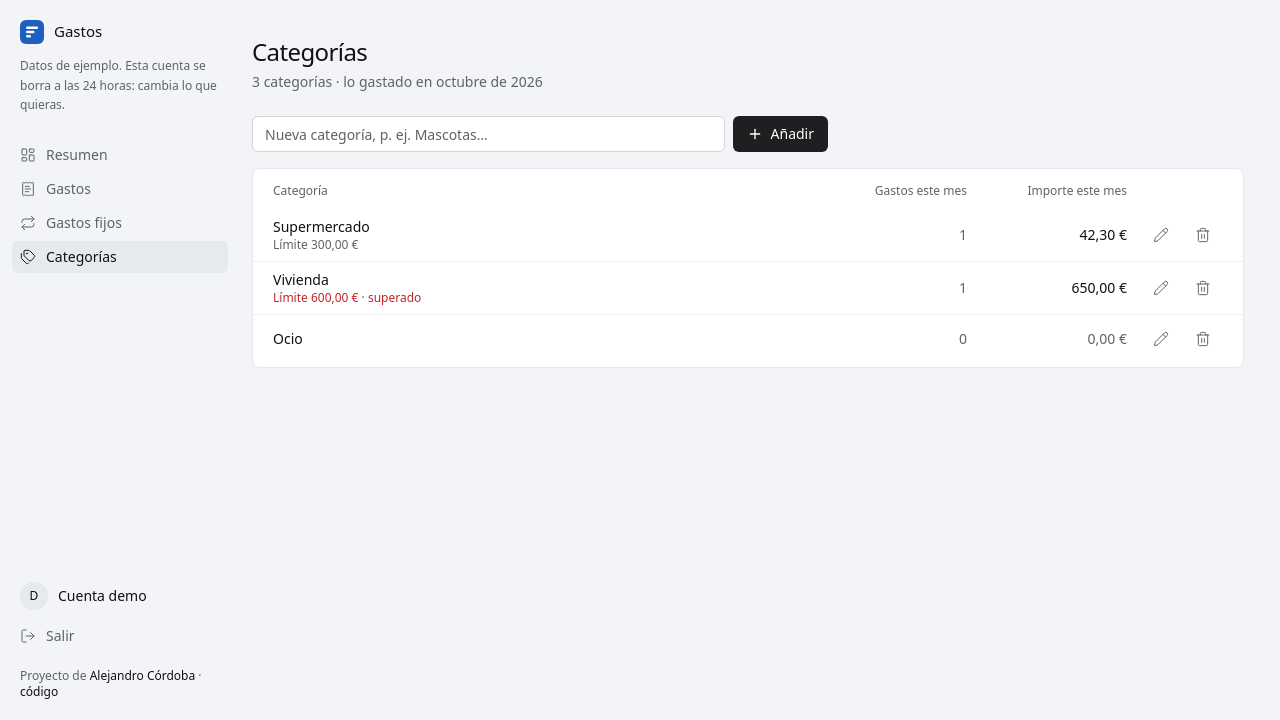
Test: categories page › shows the API message for a duplicated name
The width and height of the screenshot is (1280, 720).
Type "Vivienda" into the field named "Nombre de la nueva categoría". click: (488, 134)
box: left=252, top=116, right=724, bottom=152
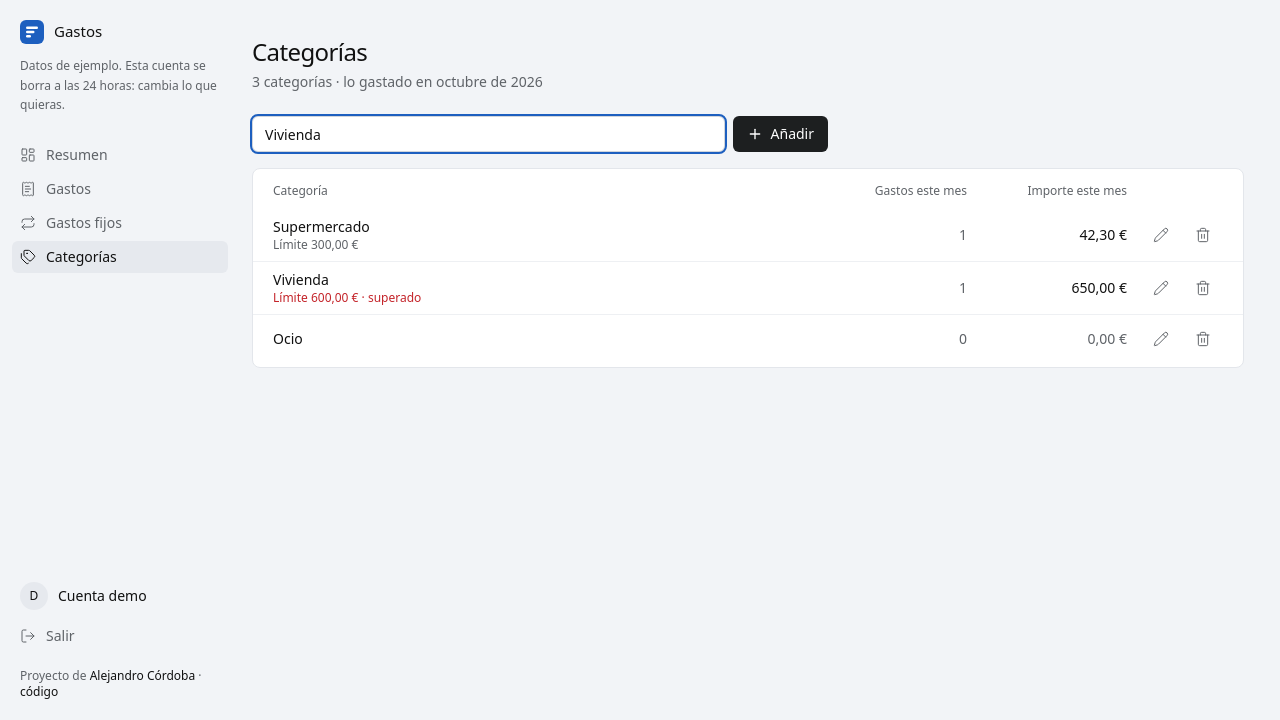
Click the button "Añadir". click: (780, 134)
box: left=732, top=116, right=828, bottom=152
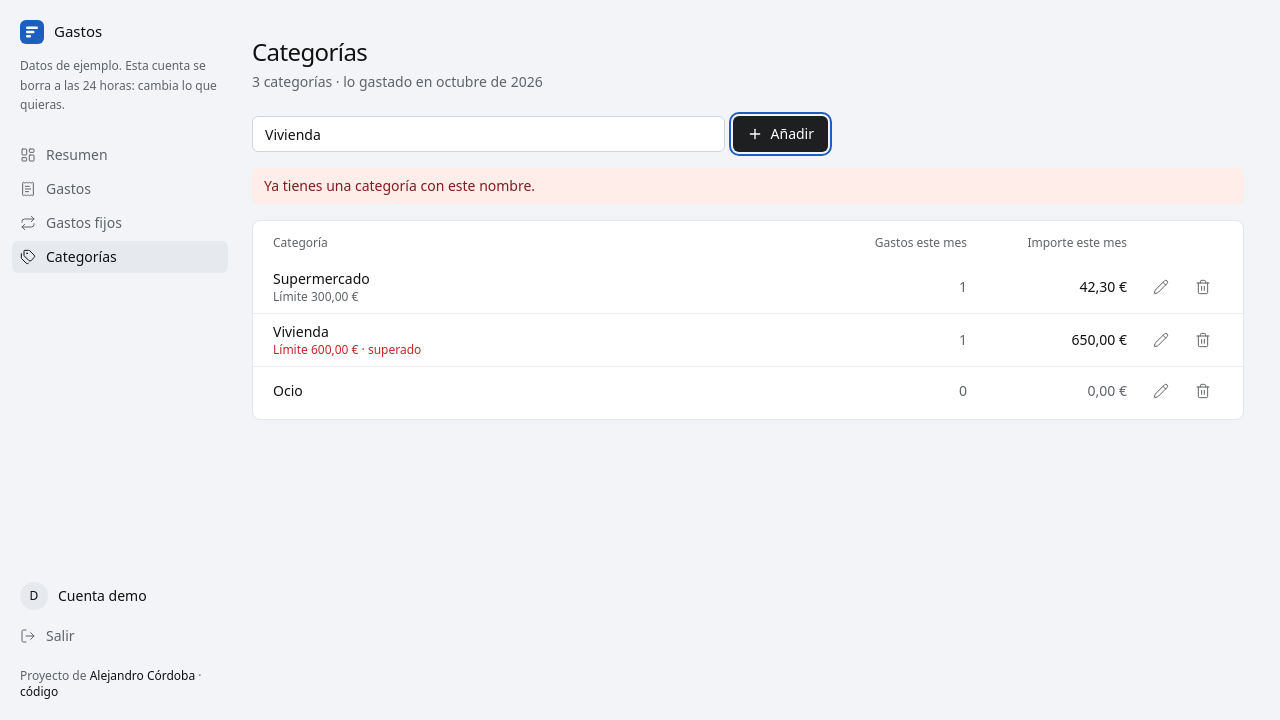
Now the message reads "Ya tienes una categoría con este nombre.", box left=264, top=176, right=535, bottom=195
